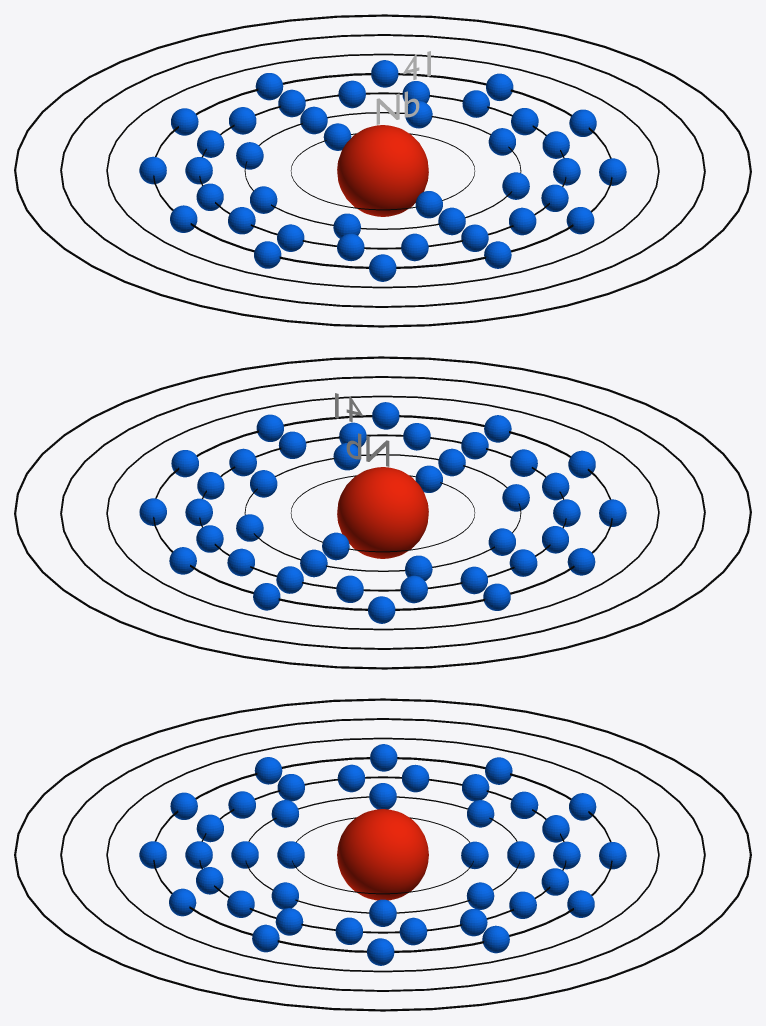
3 renders of one model, top to bottom at view 1: azimuth 30°, elevation 25°; view 2: azimuth 150°, elevation 25°; view 3: azimuth 270°, elevation 25°, orthographic.
Visible parts, largest first — view 1: Nb3, Nb4, Proton, n7, Nb2, n6, n5, n4, Nb1, n3, n2, NbText; view 2: Nb3, Nb4, Proton, n7, Nb2, n6, n5, n4, Nb1, n3, n2, NbText; view 3: Nb3, Nb4, Proton, Nb2, n7, n6, n5, n4, Nb1, n3, n2, n1.
Part boxes in pixels (box(x1,y1,x2,y2)): Nb3: box(185, 80, 580, 261); Nb4: box(139, 60, 626, 281); Proton: box(337, 125, 428, 216); n7: box(14, 14, 751, 327); Nb2: box(236, 101, 529, 238); n6: box(60, 34, 705, 307); n5: box(106, 53, 659, 288); n4: box(153, 73, 612, 268); Nb1: box(323, 123, 442, 218); n3: box(199, 92, 566, 249); n2: box(244, 112, 521, 229); NbText: box(376, 91, 419, 124); Nb3: box(185, 422, 580, 603); Nb4: box(139, 402, 626, 623); Proton: box(337, 467, 428, 558); n7: box(14, 356, 751, 669); Nb2: box(236, 443, 529, 580); n6: box(60, 376, 705, 649); n5: box(106, 395, 659, 630); n4: box(153, 415, 612, 610); Nb1: box(322, 465, 442, 560); n3: box(199, 434, 566, 591); n2: box(244, 454, 521, 571); NbText: box(346, 433, 389, 466); Nb3: box(185, 764, 580, 945); Nb4: box(139, 744, 626, 965); Proton: box(337, 809, 428, 900); Nb2: box(231, 783, 534, 926); n7: box(14, 698, 751, 1011); n6: box(60, 718, 705, 991); n5: box(106, 737, 659, 972); n4: box(153, 757, 612, 952); Nb1: box(277, 841, 488, 869); n3: box(199, 776, 566, 933); n2: box(245, 796, 520, 913); n1: box(292, 817, 473, 894).
Size of the model in its own units: 802 by 180 by 802.
